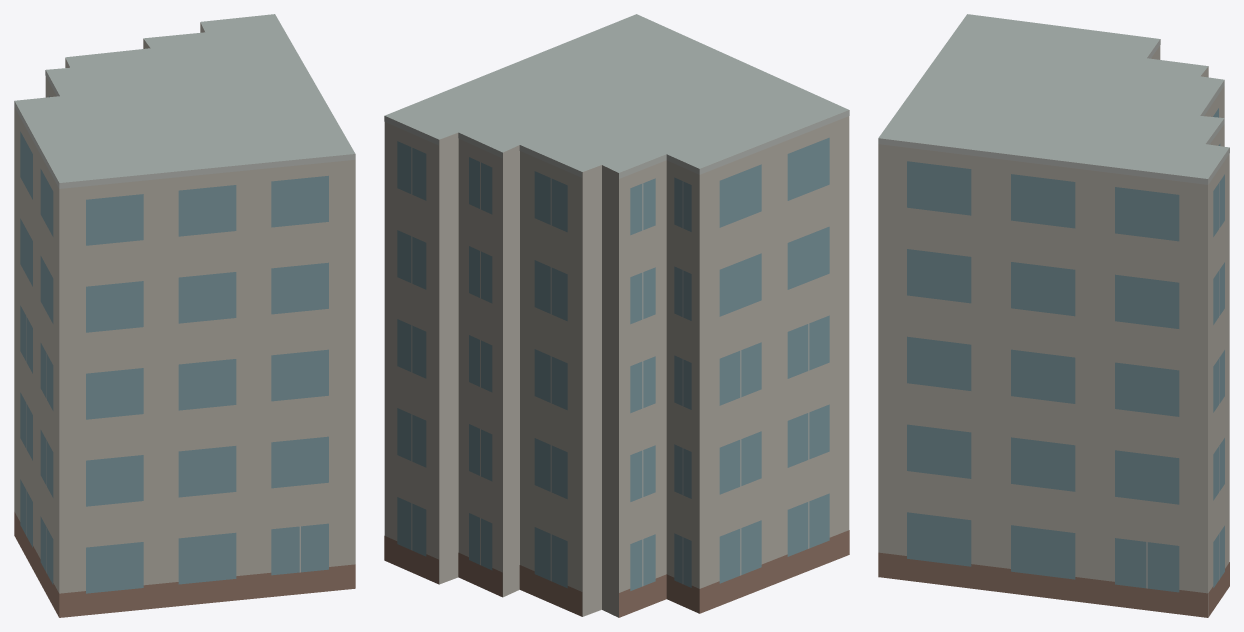
Rendered from survey-upis-32884023.glb.
3 views of the same model, side by side, from view 1: azimuth 30°, elevation 25°; view 2: azimuth 150°, elevation 25°; view 3: azimuth 270°, elevation 25° (orthographic). The views are drawn at different scales.
Visible parts, largest first — view 1: survey-upis-32884023.tmp; view 2: survey-upis-32884023.tmp; view 3: survey-upis-32884023.tmp.
Part boxes in pixels (left/top/right/bottom): survey-upis-32884023.tmp: left=14, top=14, right=355, bottom=617; survey-upis-32884023.tmp: left=384, top=14, right=849, bottom=617; survey-upis-32884023.tmp: left=878, top=14, right=1229, bottom=617.
Bounding box in the file's own units: 14.61 × 18.1 × 13.15.
